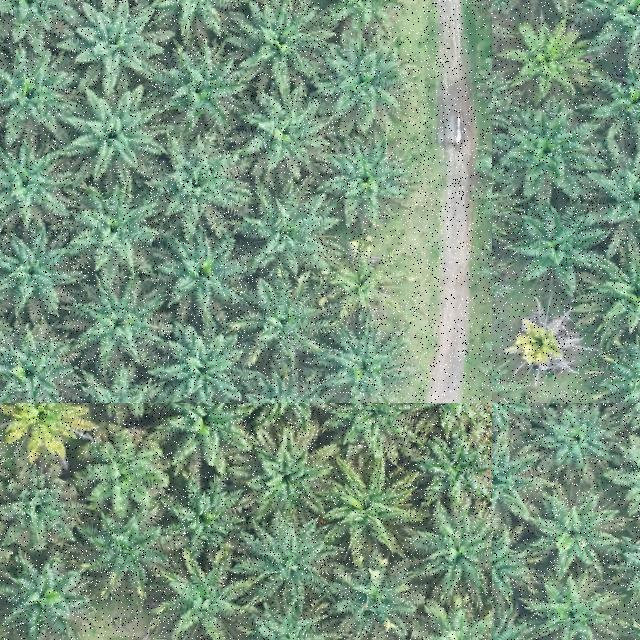Ganoderma: (516, 320, 575, 373), (12, 403, 70, 441)
